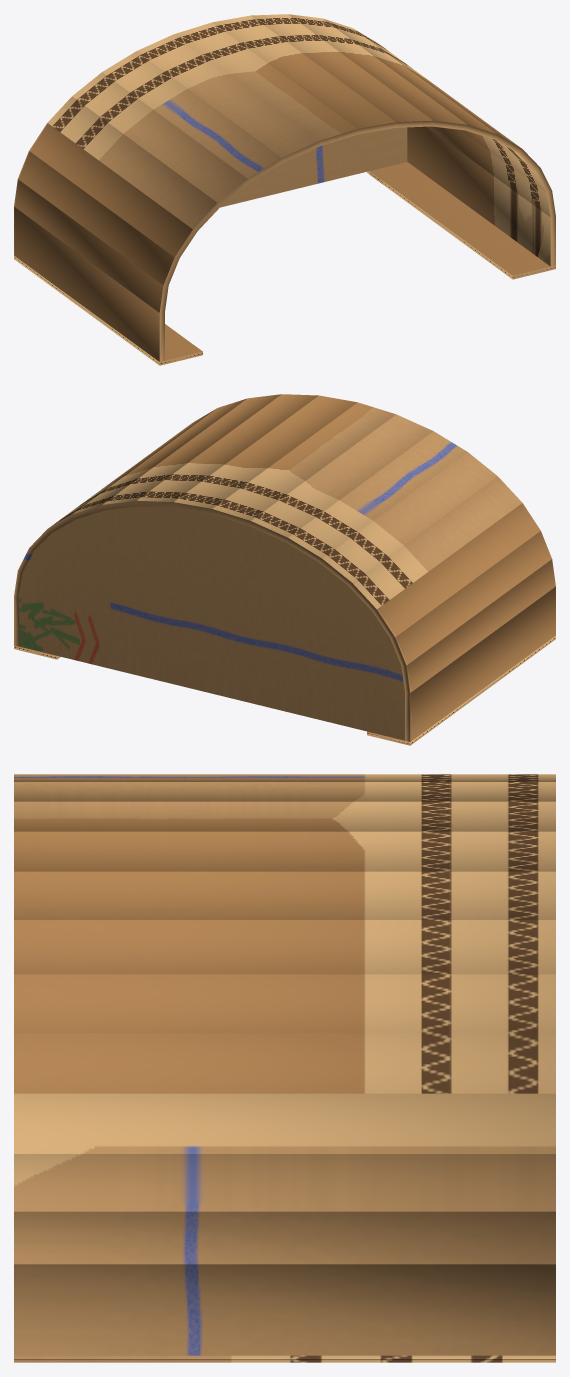
Rendered from desk-hangar.fbx.
3 renders of one model, top to bottom at view 1: azimuth 30°, elevation 25°; view 2: azimuth 150°, elevation 25°; view 3: azimuth 270°, elevation 25°, orthographic. The views are drawn at different scales.
Visible parts, largest first — view 1: desk-hangar; view 2: desk-hangar; view 3: desk-hangar.
Part boxes in pixels (x1,y1,x2,y2): desk-hangar: [14, 14, 555, 365]; desk-hangar: [14, 394, 555, 745]; desk-hangar: [14, 774, 555, 1362].
Bounding box in the file's own units: 11000 × 5000 × 7000.
